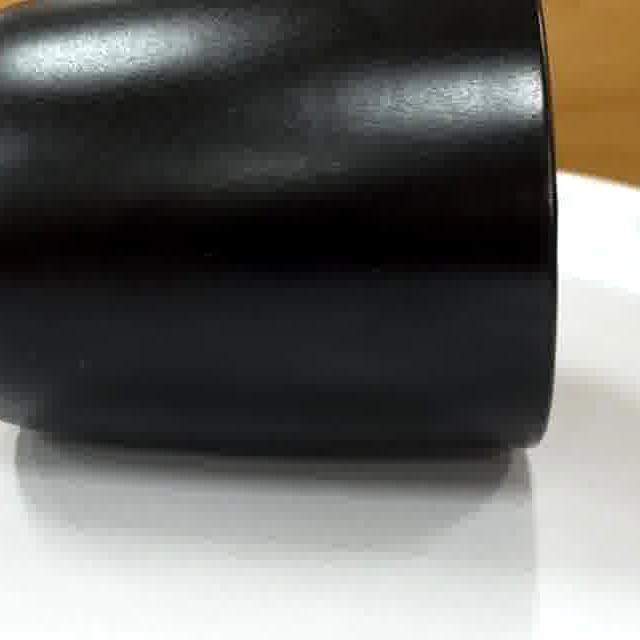cup: (0, 0, 556, 464)
